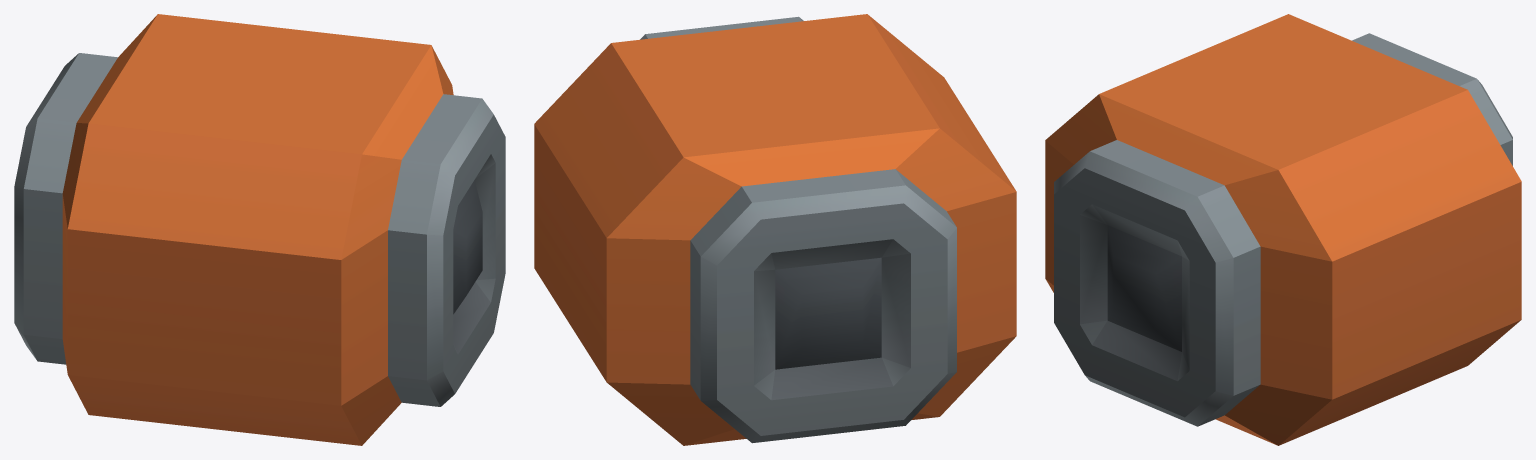
Rendered from kaykit-space-base-bits-tunnel-diagonal-short-b.glb.
3 views of the same model, side by side, from view 1: azimuth 30°, elevation 25°; view 2: azimuth 150°, elevation 25°; view 3: azimuth 270°, elevation 25° (orthographic). The views are drawn at different scales.
Visible parts, largest first — view 1: tunnel_diagonal_short_B; view 2: tunnel_diagonal_short_B; view 3: tunnel_diagonal_short_B.
Boxes of the visible parts, x1,y1,x2,y2 form: tunnel_diagonal_short_B: (14,14,505,445); tunnel_diagonal_short_B: (534,14,1016,445); tunnel_diagonal_short_B: (1045,14,1521,445).
Bounding box in the file's own units: 0.939 × 0.6 × 0.939.
Materials: 1 (1 with a texture image).
